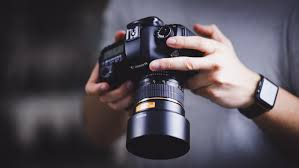camera: (98, 20, 195, 159)
